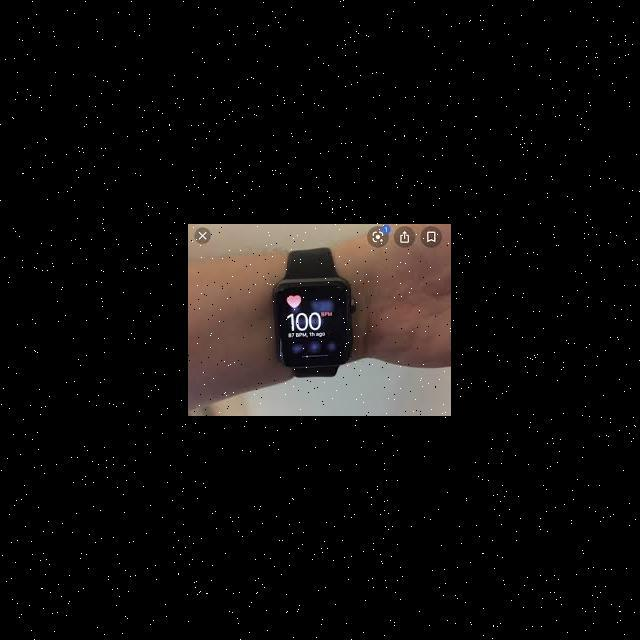watch: (270, 240, 363, 392)
